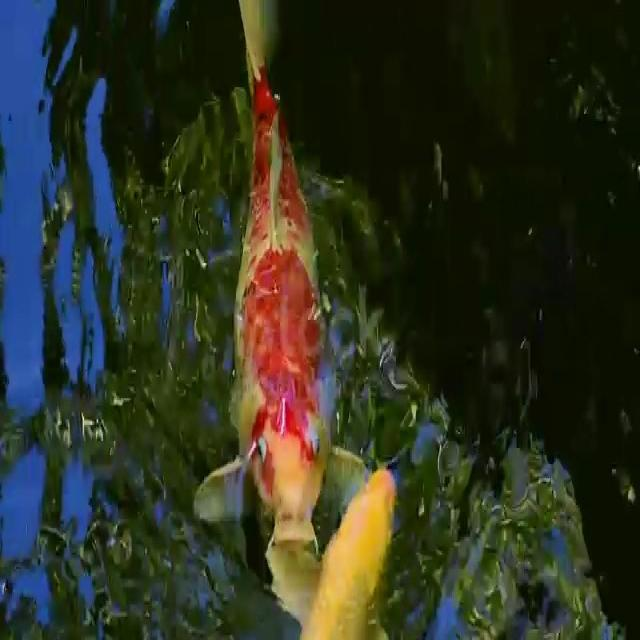fish: (184, 0, 362, 564), (301, 466, 404, 640)
